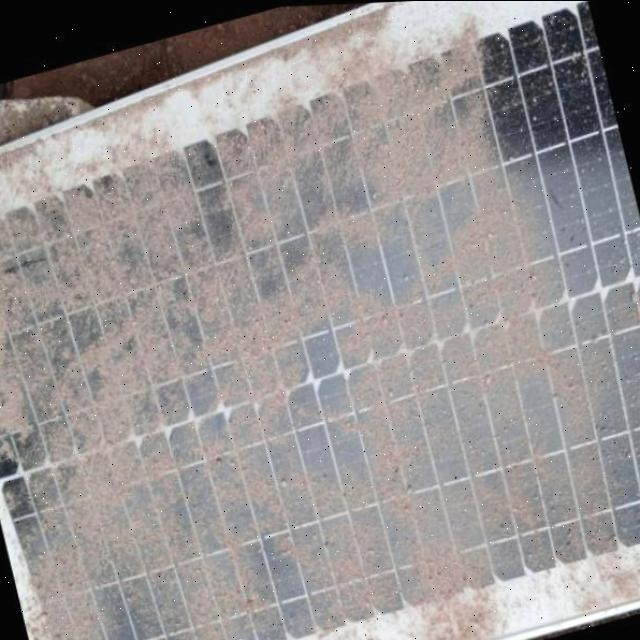Surface Contaminant: (0, 15, 640, 640)
